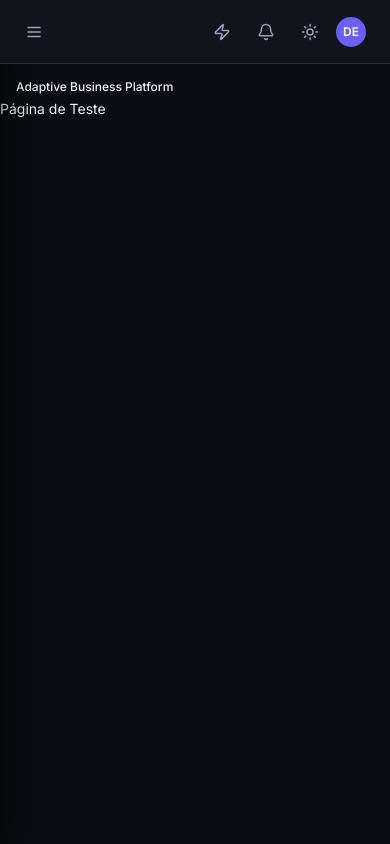
AppLayout — menu móvel (UX-001, <1024px) › abre e fecha o painel de navegação sobreposto ao clicar no botão de menu / no backdrop
Expected: the text "Página de Teste" is shown, [0,100,106,117]
What coordinates should you click on to do the following:
click the button named "Abrir menu de navegação"
I would click on:
 (34, 32)
Its box is [16,14,52,50].
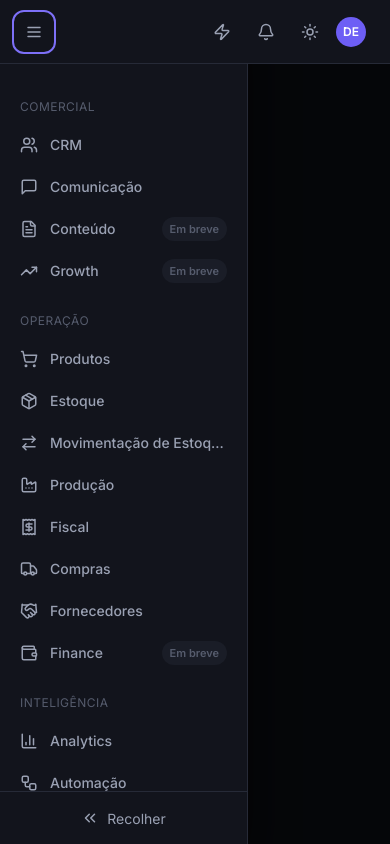
Expected: the element with class "app-layout__mobile-backdrop" is shown
What coordinates should you click on to do the following:
click the element with class "app-layout__mobile-backdrop"
I would click on:
 (367, 422)
Its box is [0,0,389,843].
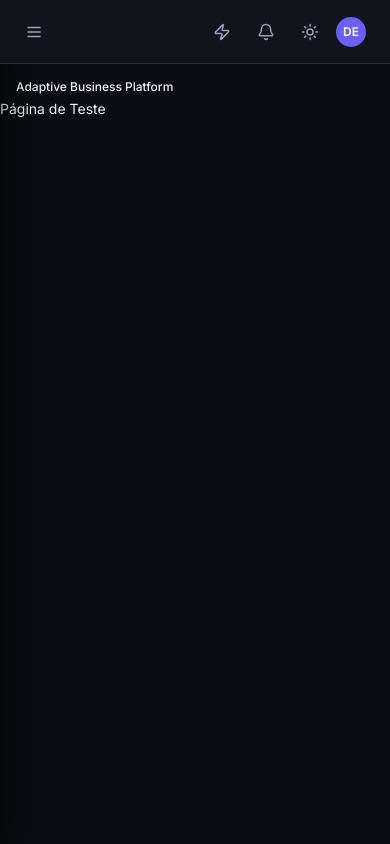
Expected: the element with class "app-layout__mobile-backdrop" is gone
